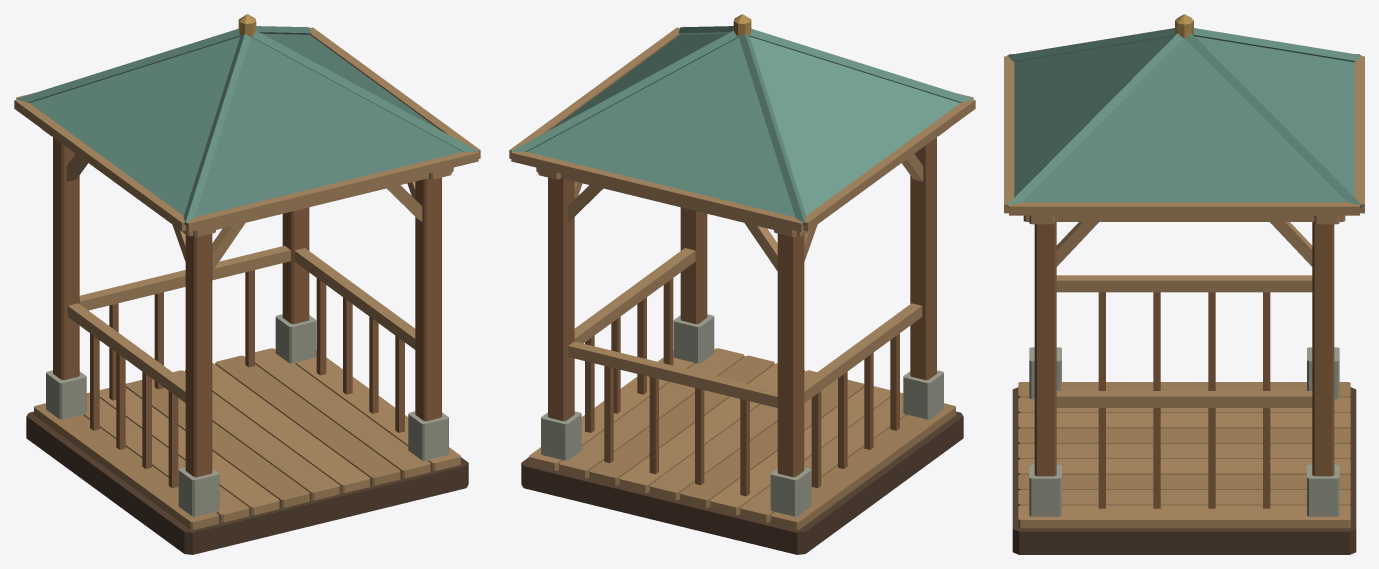
File: decor_gazebo.glb
3 renders of one model, left to right at view 1: azimuth 30°, elevation 25°; view 2: azimuth 150°, elevation 25°; view 3: azimuth 270°, elevation 25°, orthographic. The views are drawn at different scales.
Parts seen in each view (by area): view 1: geometry; view 2: geometry; view 3: geometry.
Part boxes in pixels (bbox=[...]): geometry: bbox=[14, 14, 480, 554]; geometry: bbox=[509, 14, 975, 554]; geometry: bbox=[1004, 14, 1364, 554].
Size of the model in its own units: 1.97 by 2.83 by 1.97.
